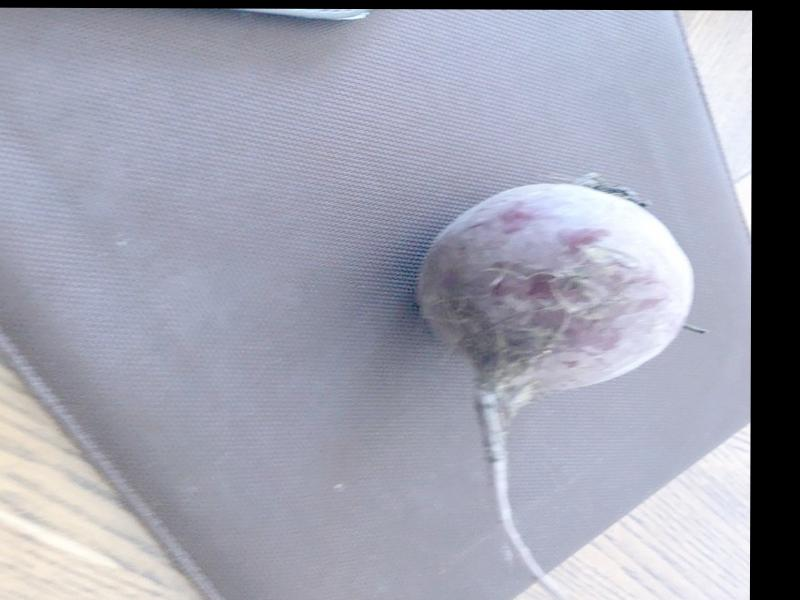Beet: (418, 183, 692, 600)
